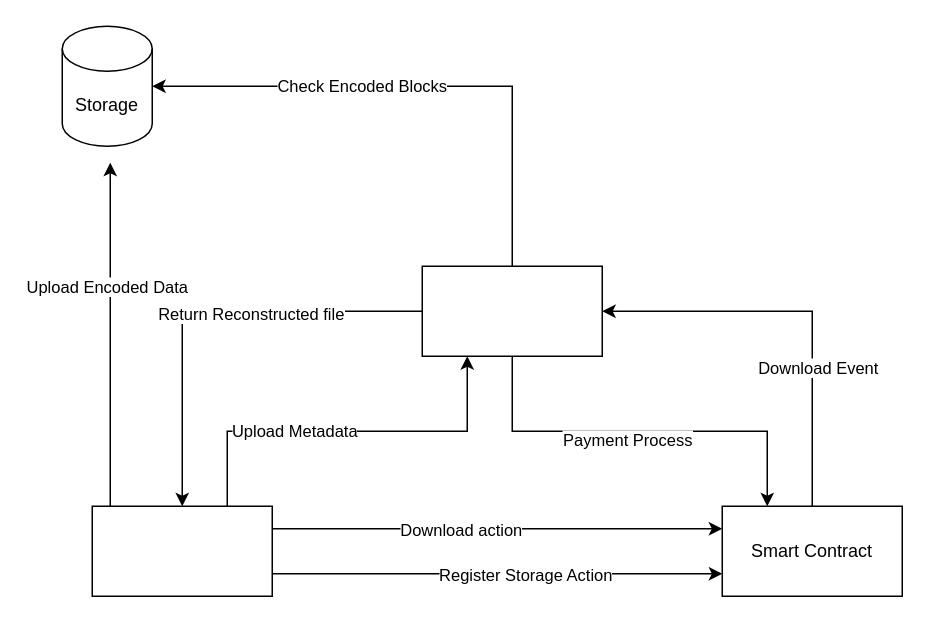
Image size: 929x623. Some labels were removed from this diagram. The centre of each missing label's shape, as x and y in pixels:
"Reconstructor" goes at point (511, 310).
"User" goes at point (181, 550).
